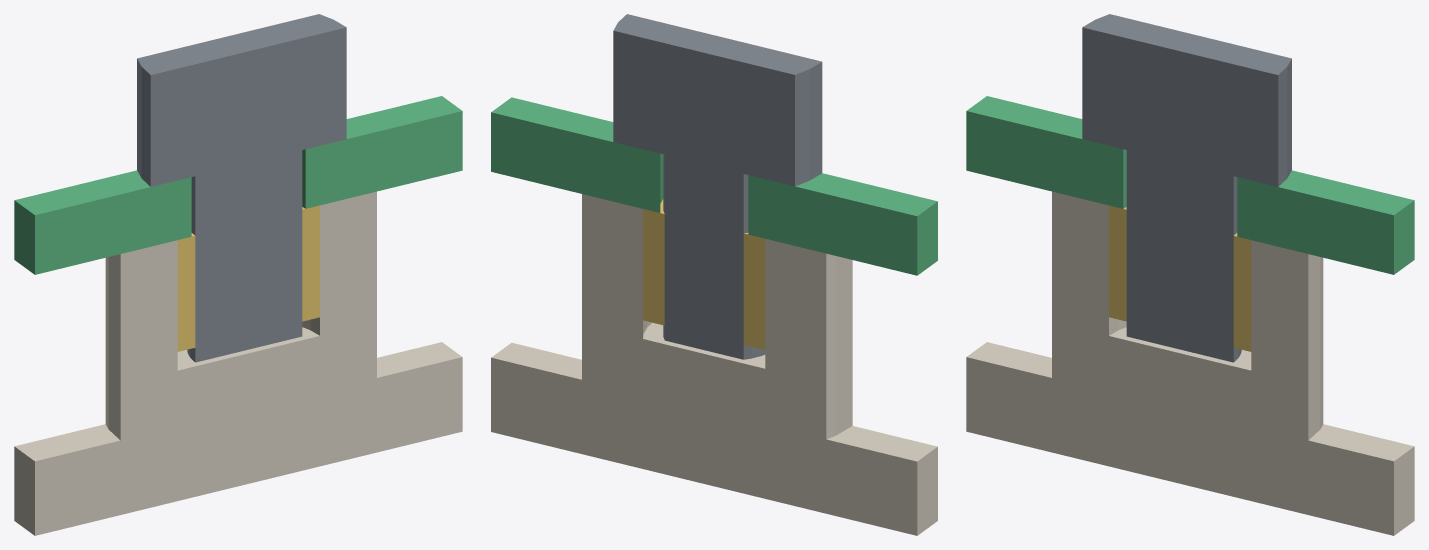
File: insert-and-screw-selected-jointly-feasible-counterpart.actual.glb
The picture shows the model from 3 angles, left to right: view 1: azimuth 30°, elevation 25°; view 2: azimuth 150°, elevation 25°; view 3: azimuth 330°, elevation 25°; orthographic projection.
Parts seen in each view (by area): view 1: base, EN1.H1.screw, board, EN1.H1.insert; view 2: base, EN1.H1.screw, board, EN1.H1.insert; view 3: base, EN1.H1.screw, board, EN1.H1.insert.
Boxes of the visible parts, x1,y1,x2,y2 form: base: (14,191,462,535); EN1.H1.screw: (137,14,346,362); board: (14,96,462,274); EN1.H1.insert: (177,205,319,351); base: (491,194,937,535); EN1.H1.screw: (613,14,822,359); board: (491,97,937,275); EN1.H1.insert: (643,199,765,349); base: (966,191,1414,535); EN1.H1.screw: (1082,14,1291,362); board: (966,96,1414,274); EN1.H1.insert: (1109,205,1251,351).
Size of the model in its own units: 12 by 11.6 by 1.
